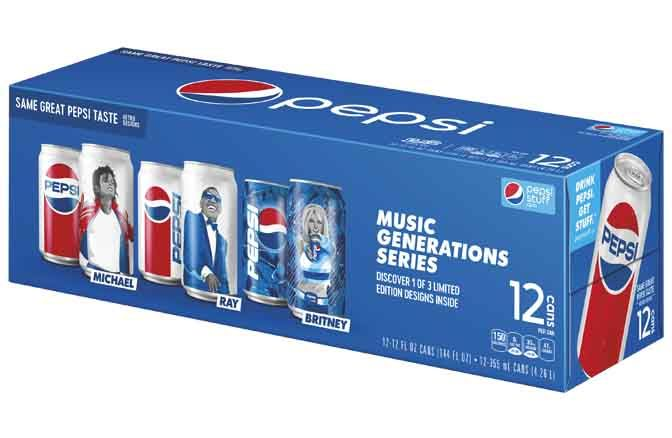pepsi: (599, 198, 638, 291), (173, 73, 282, 105), (173, 75, 282, 105), (40, 162, 81, 214), (254, 206, 288, 249), (142, 181, 170, 222), (503, 180, 522, 203)
